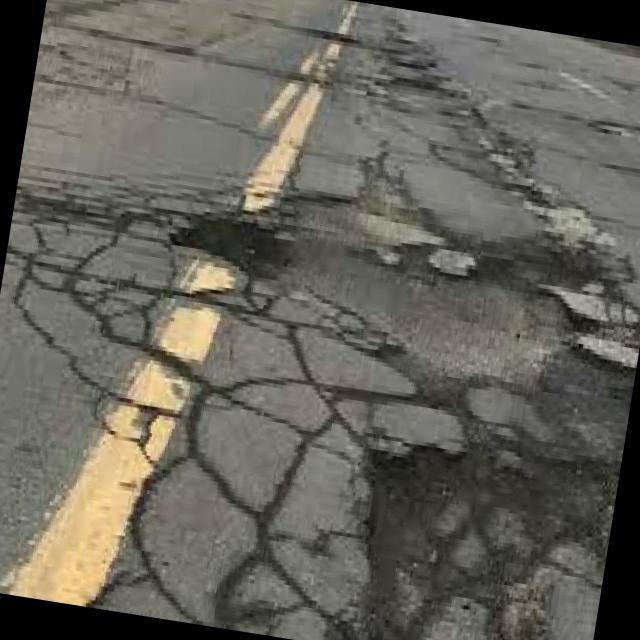pothole: (288, 379, 619, 640), (268, 183, 614, 401), (148, 198, 304, 298)
